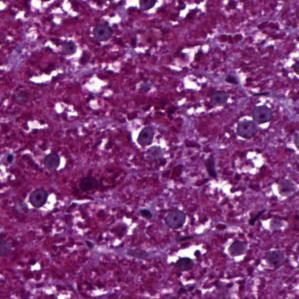inflammation: (232, 102, 275, 139), (219, 228, 255, 263), (21, 182, 58, 213), (130, 121, 165, 149), (128, 0, 166, 16)
